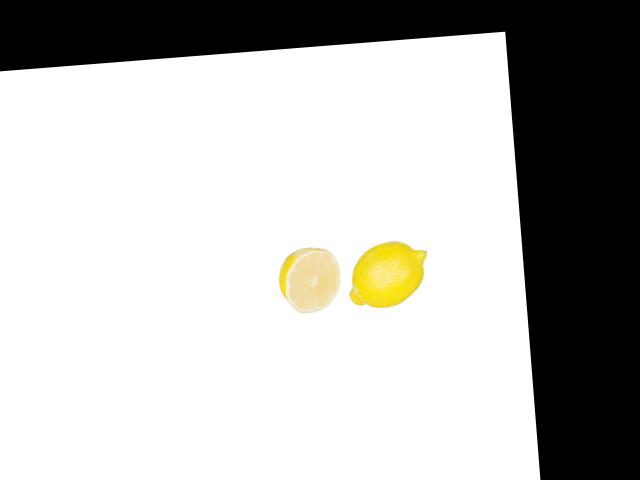lemon: (344, 238, 428, 311)
